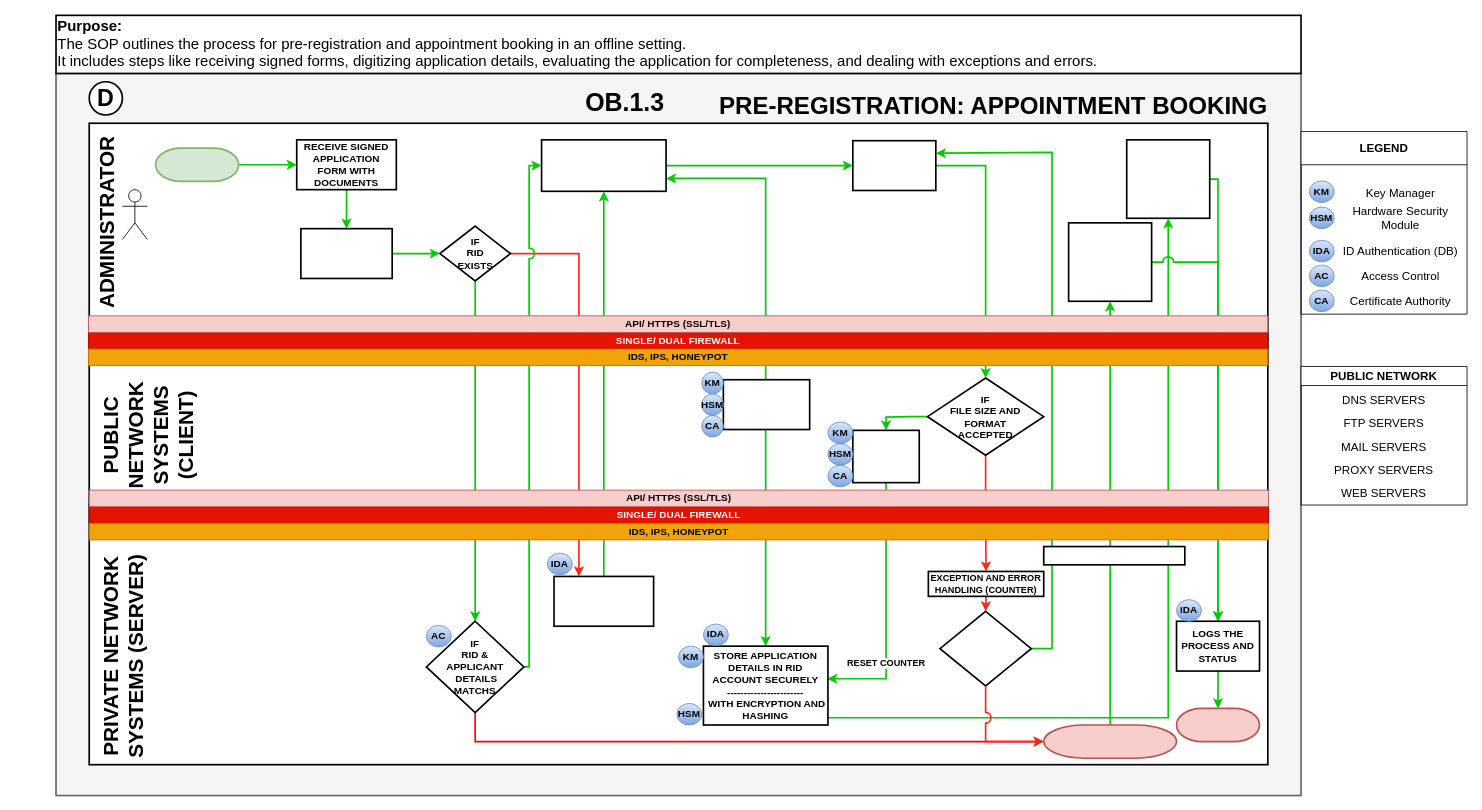
Some shapes in this 1482 by 810 pixel diagram are drawn without their labels. Here are the shapes that lost their labels. From the top down, the centre of each, then its label:
At (196,164): "START (OFFLINE)".
At (603,165): "DIGITISE APPLICATION FORM DETAILS & UPLOAD TO SYSTEM".
At (894,165): "SCAN PHOTOCOPY OF SUPPORTING DOCUMENTS".
At (1167,179): "PRINTS ACKNOWLEDG-EMENT WITH RID FOR APPOINTMENT BOOKING".
At (134,214): "ADMIN".
At (346,253): "EVALUATE APPLICATION FORM FOR COMPLETENESS".
At (1109,262): "PRINTS ACKNOWLEDG-EMENT WITH REJECTED APPLICATION".
At (766,404): "MASK & ENCRYPT APPLICATION DETAILS".
At (886,456): "MASK & ENCRYPT SCAN FILE".
At (1113,555): "NOTIFICATION GENERATOR".
At (603,601): "GENERATE NEW RID FOR THE APPLICANT".
At (985,648): "IF RETRY COUNT <=3".
At (1109,741): "TERMINATE PROCESS: WITH REASON".
At (1217,724): "END".
